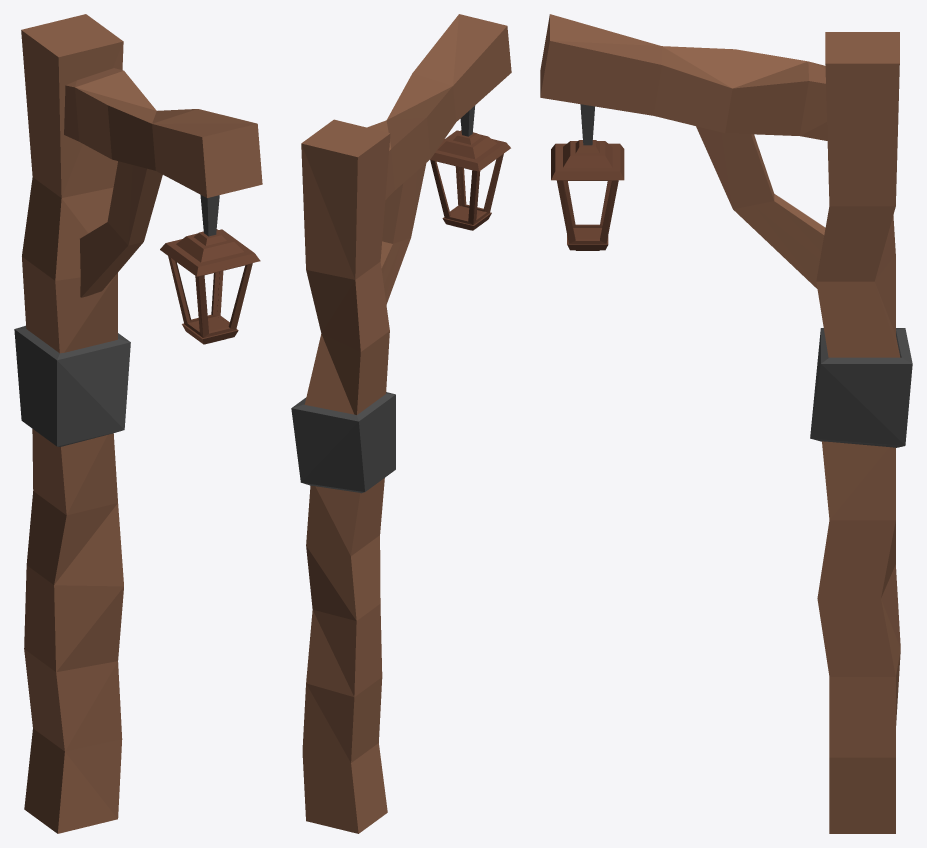
The model's file is Lampost1.fbx.
3 views of the same model, side by side, from view 1: azimuth 30°, elevation 25°; view 2: azimuth 150°, elevation 25°; view 3: azimuth 270°, elevation 25° (orthographic). The views are drawn at different scales.
Visible parts, largest first — view 1: Lampost1; view 2: Lampost1; view 3: Lampost1.
Part boxes in pixels (<box>): Lampost1: <box>14,14,262,833</box>; Lampost1: <box>291,14,511,833</box>; Lampost1: <box>540,14,912,833</box>.
Bounding box in the file's own units: 184 × 1906 × 812.
